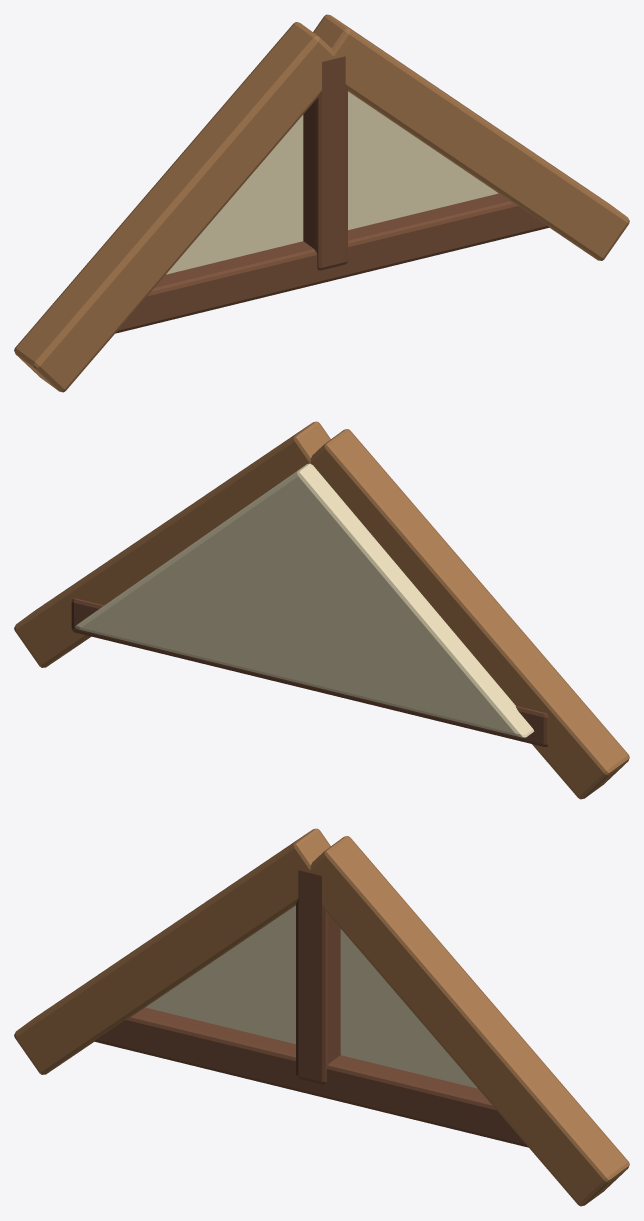
The model's file is gable_end_2m.glb.
The picture shows the model from 3 angles, top to bottom: view 1: azimuth 30°, elevation 25°; view 2: azimuth 150°, elevation 25°; view 3: azimuth 330°, elevation 25°; orthographic projection.
Parts seen in each view (by area): view 1: gable_end_2m__structure, gable_end_2m__finish; view 2: gable_end_2m__finish, gable_end_2m__structure; view 3: gable_end_2m__structure, gable_end_2m__finish.
Part boxes in pixels (x1,y1,x2,y2): gable_end_2m__structure: [14, 14, 629, 392]; gable_end_2m__finish: [166, 91, 498, 274]; gable_end_2m__finish: [75, 463, 534, 737]; gable_end_2m__structure: [14, 421, 629, 799]; gable_end_2m__structure: [14, 828, 629, 1206]; gable_end_2m__finish: [145, 905, 477, 1088].
Bounding box in the file's own units: 2.62 × 1.24 × 0.27.
